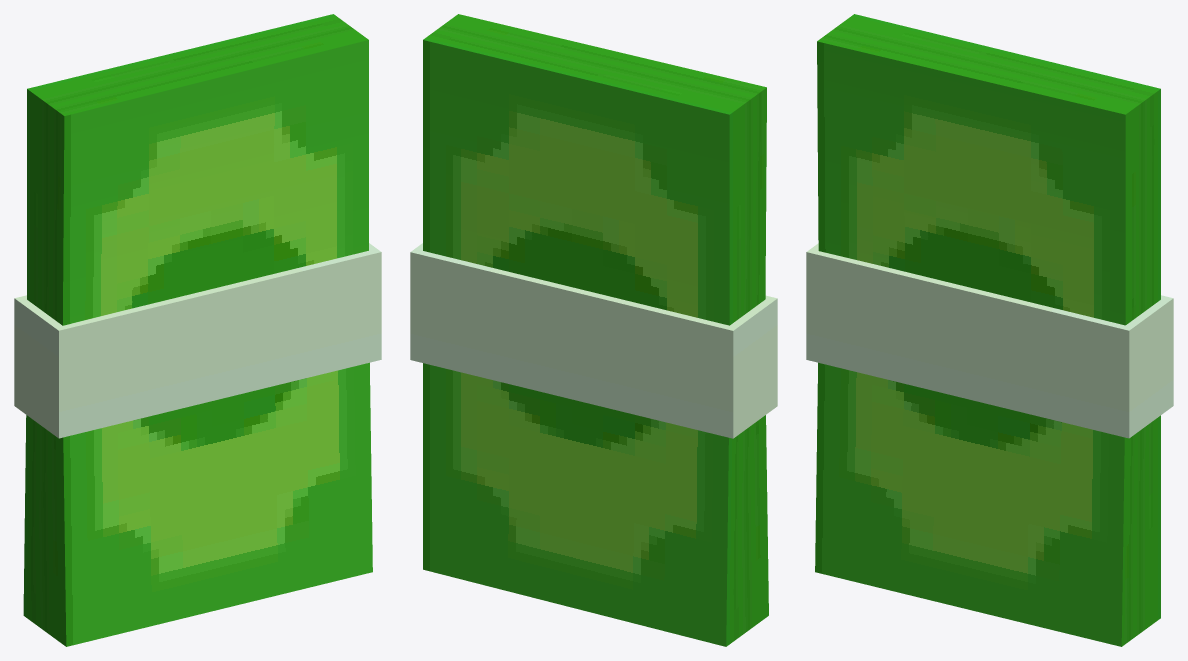
The model's file is iap_single.fbx.
3 renders of one model, left to right at view 1: azimuth 30°, elevation 25°; view 2: azimuth 150°, elevation 25°; view 3: azimuth 330°, elevation 25°, orthographic.
Parts seen in each view (by area): view 1: iap_single; view 2: iap_single; view 3: iap_single.
Boxes of the visible parts, x1,y1,x2,y2 form: iap_single: (14,14,381,646); iap_single: (410,14,777,646); iap_single: (806,14,1173,646).
Size of the model in its own units: 39.47 by 61.88 by 9.41.
